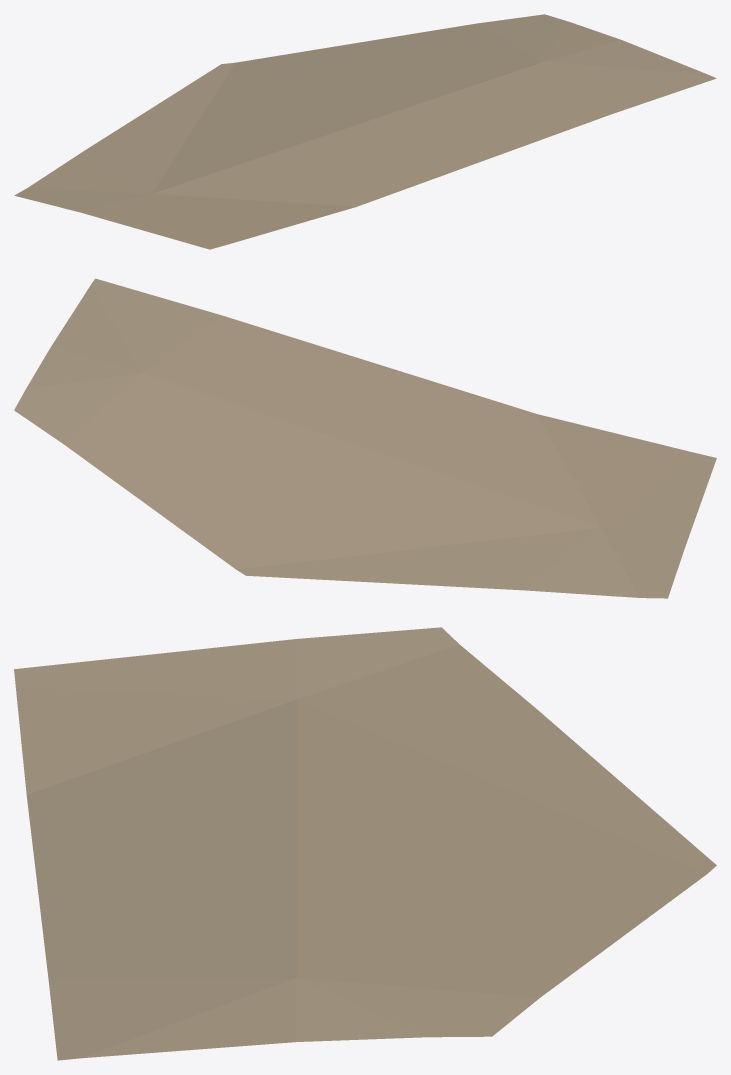
Rendered from farm_21_11_soil.glb.
The picture shows the model from 3 angles, top to bottom: view 1: azimuth 30°, elevation 25°; view 2: azimuth 150°, elevation 25°; view 3: azimuth 270°, elevation 25°; orthographic projection. The views are drawn at different scales.
Visible parts, largest first — view 1: geometry_0; view 2: geometry_0; view 3: geometry_0.
Boxes of the visible parts, left/top/right/bottom form: geometry_0: left=14, top=14, right=716, bottom=249; geometry_0: left=14, top=278, right=716, bottom=598; geometry_0: left=14, top=627, right=716, bottom=1060.
Size of the model in its own units: 122 by 9.83 by 69.13.
